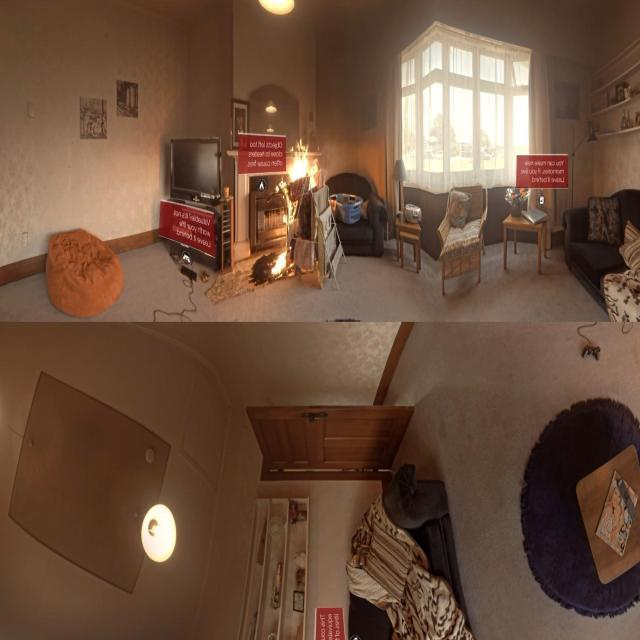smoke: (276, 136, 320, 226), (269, 246, 289, 279)
